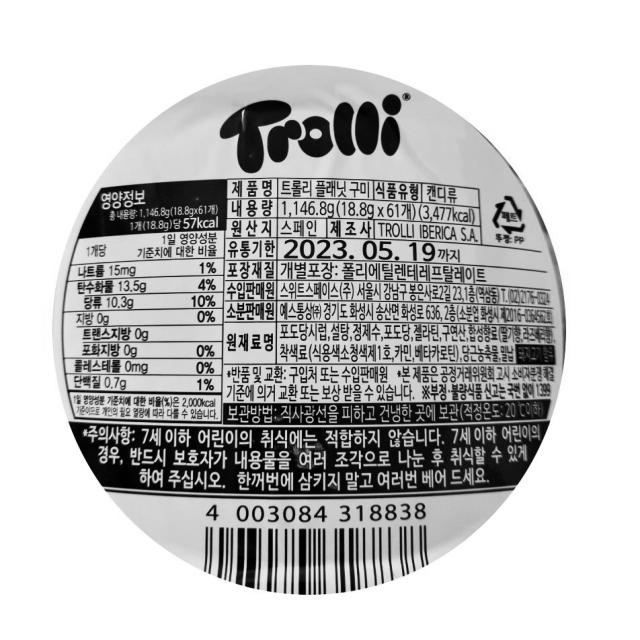Nutrition Label: (40, 179, 232, 428)
